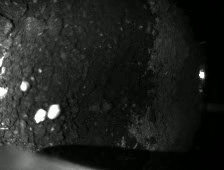corn: (44, 102, 63, 122), (31, 106, 49, 127), (17, 77, 34, 94)
